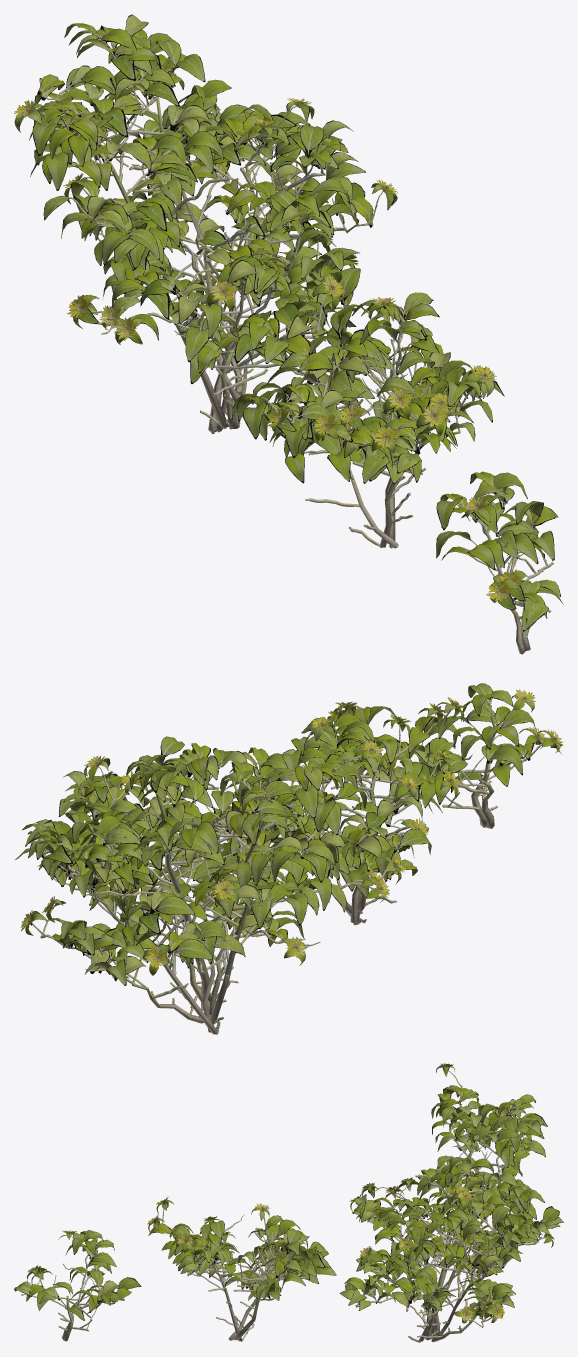
Rendered from didelta_spinosa_2k.gltf.
3 renders of one model, top to bottom at view 1: azimuth 30°, elevation 25°; view 2: azimuth 150°, elevation 25°; view 3: azimuth 270°, elevation 25°, orthographic. The views are drawn at different scales.
Visible parts, largest first — view 1: didelta_spinosa_large_LOD0, didelta_spinosa_medium_LOD0, didelta_spinosa_small_LOD0; view 2: didelta_spinosa_large_LOD0, didelta_spinosa_medium_LOD0, didelta_spinosa_small_LOD0; view 3: didelta_spinosa_large_LOD0, didelta_spinosa_medium_LOD0, didelta_spinosa_small_LOD0.
Part boxes in pixels (bbox=[...]): didelta_spinosa_large_LOD0: bbox=[14, 14, 397, 433]; didelta_spinosa_medium_LOD0: bbox=[231, 292, 504, 548]; didelta_spinosa_small_LOD0: bbox=[436, 471, 563, 654]; didelta_spinosa_large_LOD0: bbox=[15, 736, 406, 1034]; didelta_spinosa_medium_LOD0: bbox=[224, 697, 465, 925]; didelta_spinosa_small_LOD0: bbox=[414, 683, 563, 828]; didelta_spinosa_large_LOD0: bbox=[340, 1063, 563, 1342]; didelta_spinosa_medium_LOD0: bbox=[147, 1197, 336, 1341]; didelta_spinosa_small_LOD0: bbox=[14, 1230, 141, 1341].
Size of the model in its own units: 2.12 by 2.07 by 4.56.
1 material, 1 textured.
